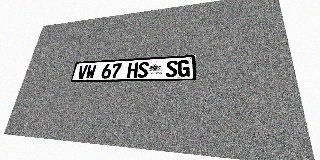plate: (70, 55, 196, 82)
